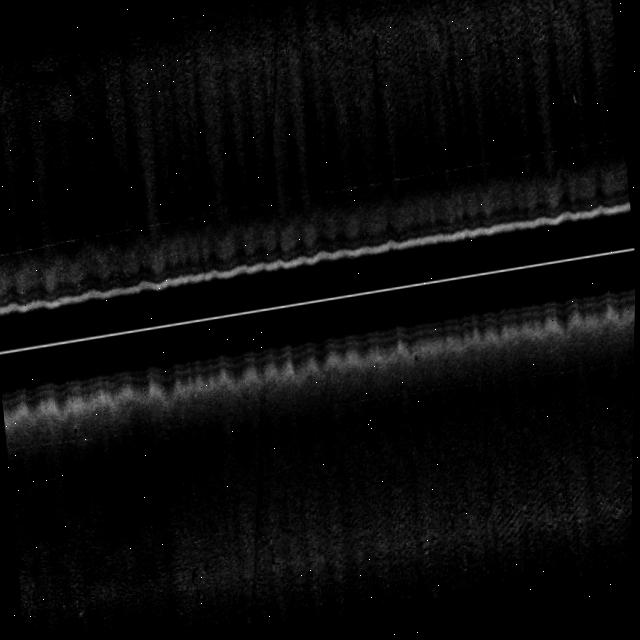mine: (565, 86, 580, 117)
